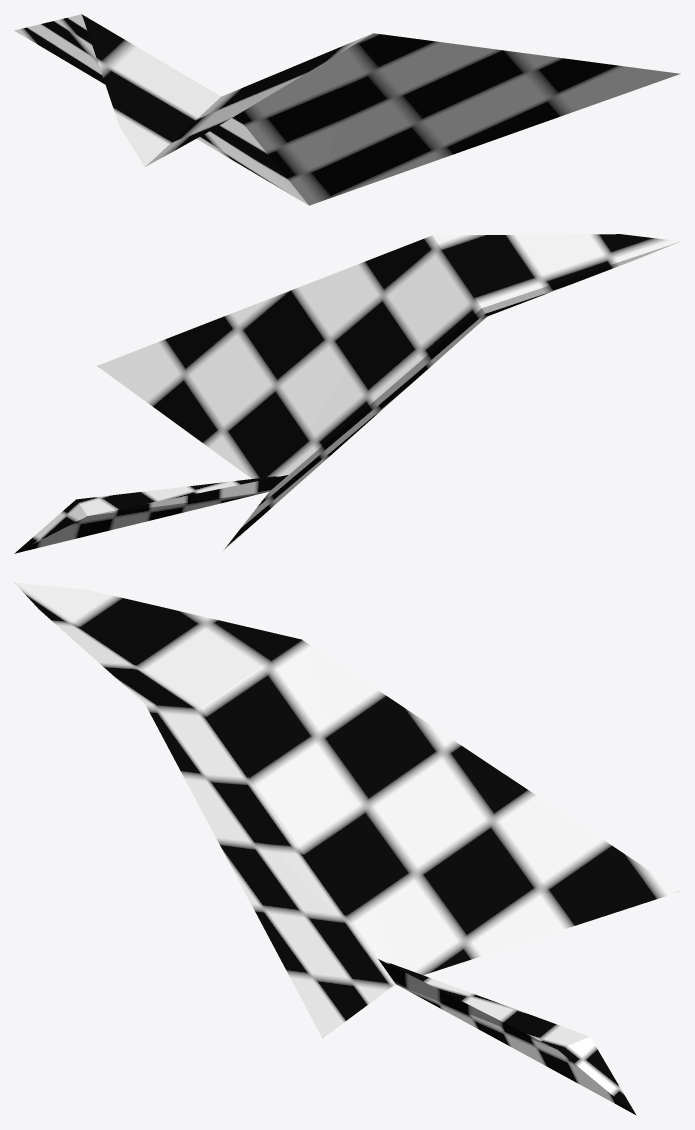
The model's file is initqu22.dae.
3 renders of one model, top to bottom at view 1: azimuth 30°, elevation 25°; view 2: azimuth 150°, elevation 25°; view 3: azimuth 270°, elevation 25°, orthographic. The views are drawn at different scales.
Visible parts, largest first — view 1: item; view 2: item; view 3: item.
Boxes of the visible parts, x1,y1,x2,y2 form: item: (14,14,680,205); item: (14,234,680,553); item: (14,582,680,1115).
Bounding box in the file's own units: 1.49 × 1.52 × 0.7175.
Materials: 1 (1 with a texture image).
